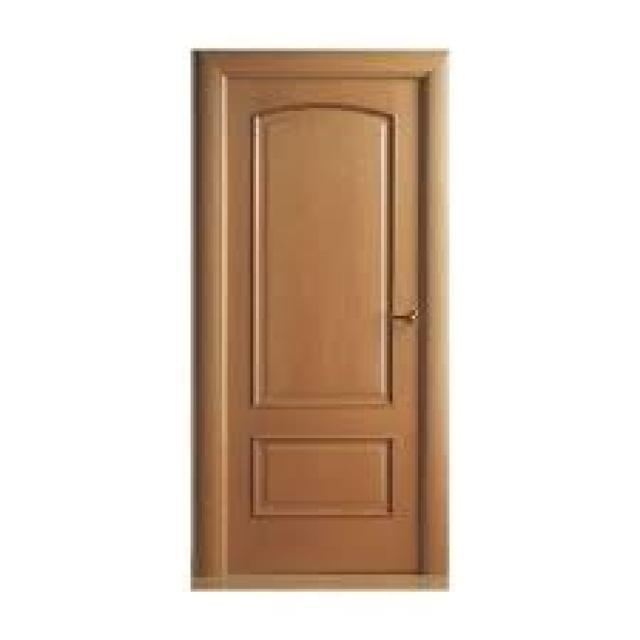door: (190, 48, 450, 589)
